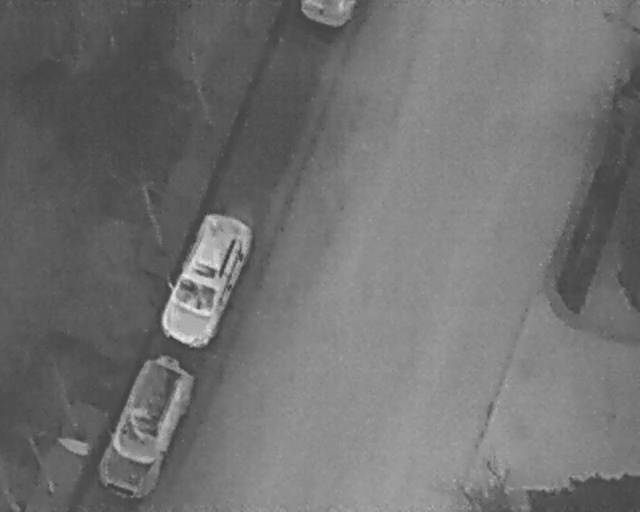Car: (90, 347, 202, 507), (155, 208, 255, 353)
